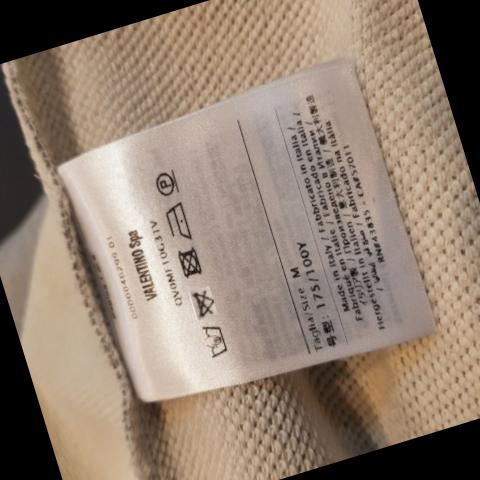DN_bleach: (187, 285, 220, 323)
DN_tumble_dry: (176, 248, 204, 281)
dry_clean_any_solvent_except_trichloroethylene: (153, 164, 182, 199)
hand_wash: (199, 323, 231, 365)
iron_low: (164, 201, 199, 243)
